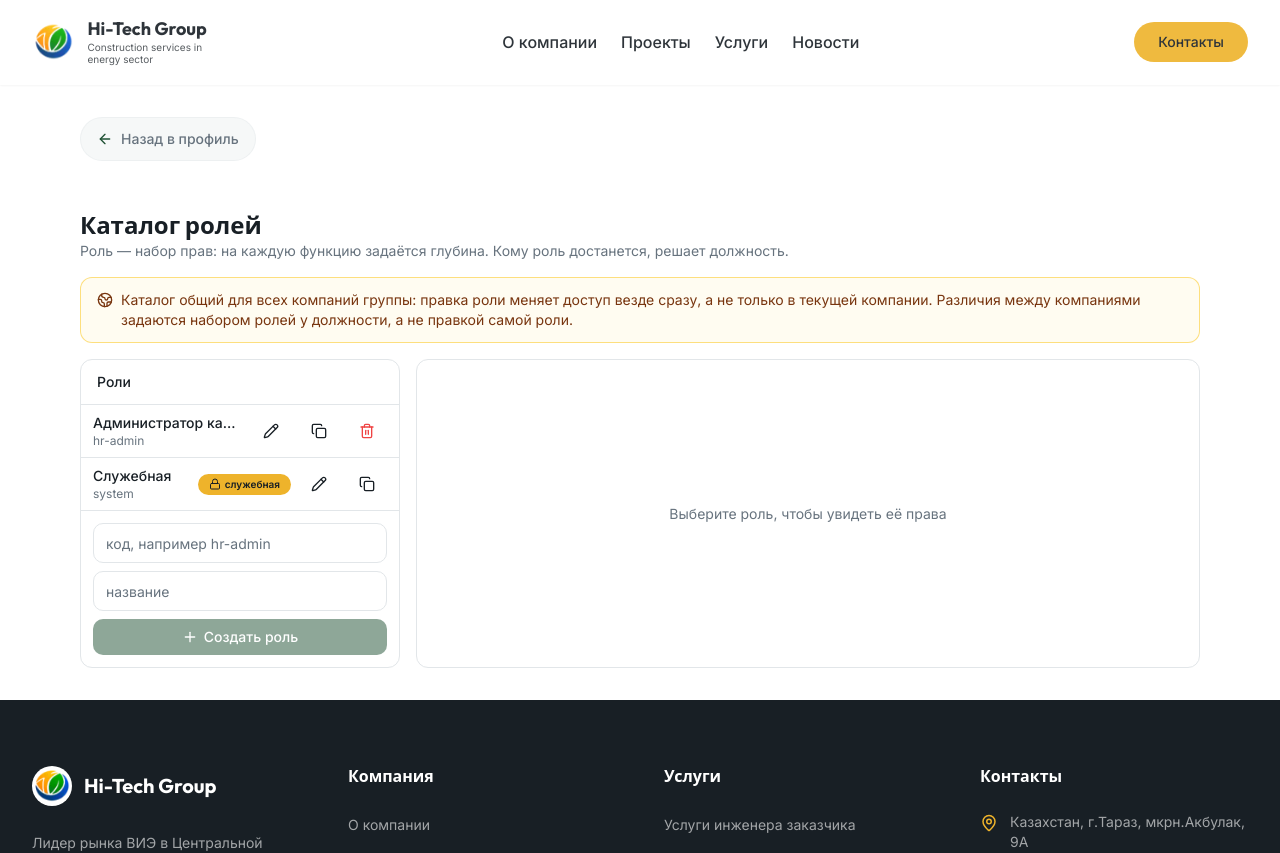
Test: RoleCatalog › удаление идёт через диалог, а не немедленным запросом
Click the button named "Удалить роль".
click(367, 431)  # box left=347, top=413, right=387, bottom=449
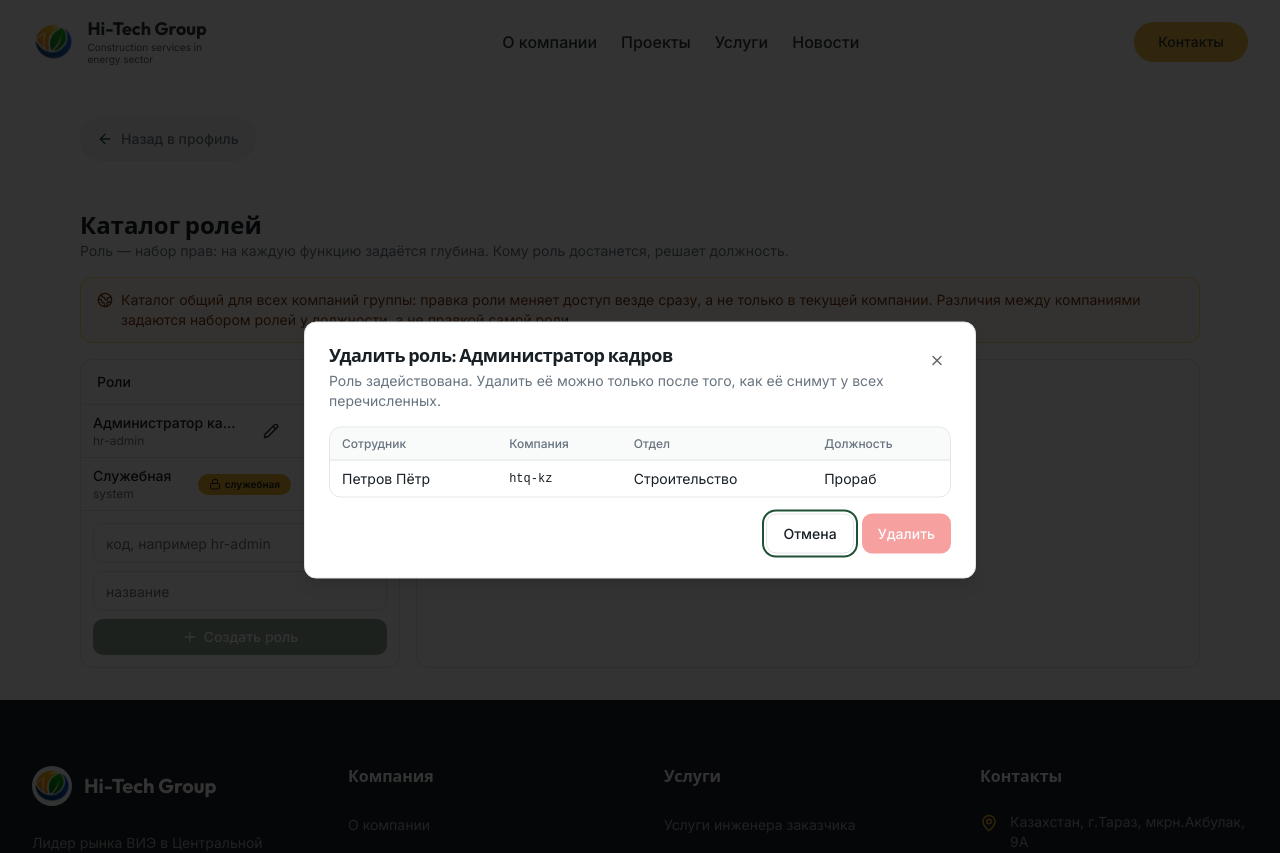
expect the text "Петров Пётр" is shown: met, box left=330, top=460, right=497, bottom=496
